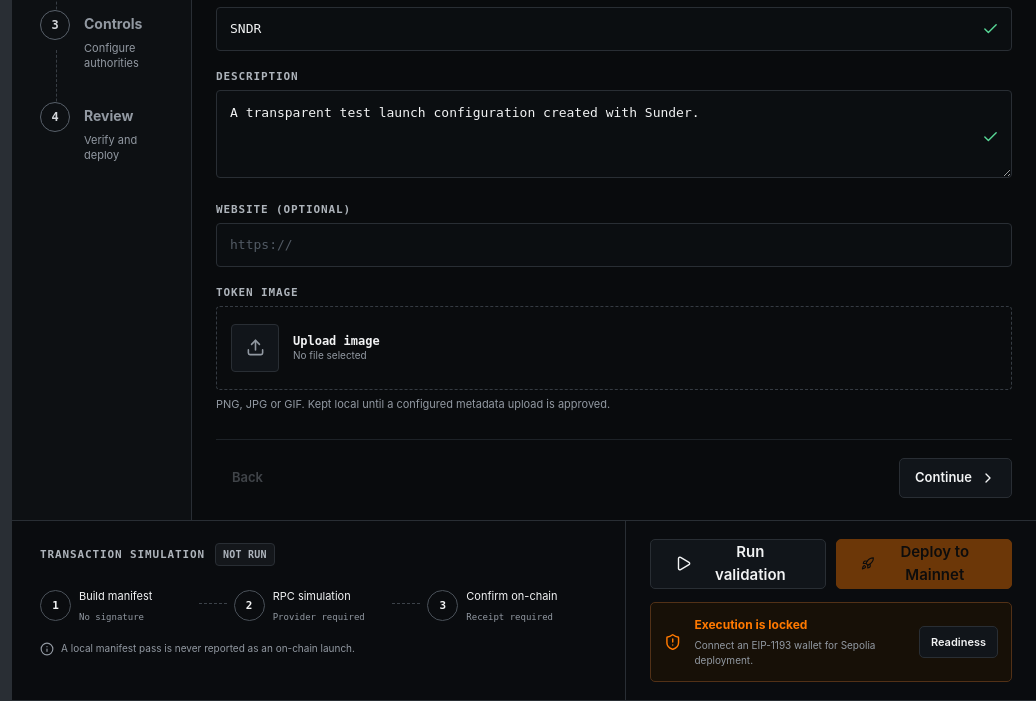
EVM product parity and safety › keeps Ethereum Mainnet deployment disabled even after a local manifest validation
(page scrolled)
Check: the button "Deploy to Mainnet" is disabled, box [836,539,1012,589]
Click the button "Run validation": (738, 564) [650,539,826,589]
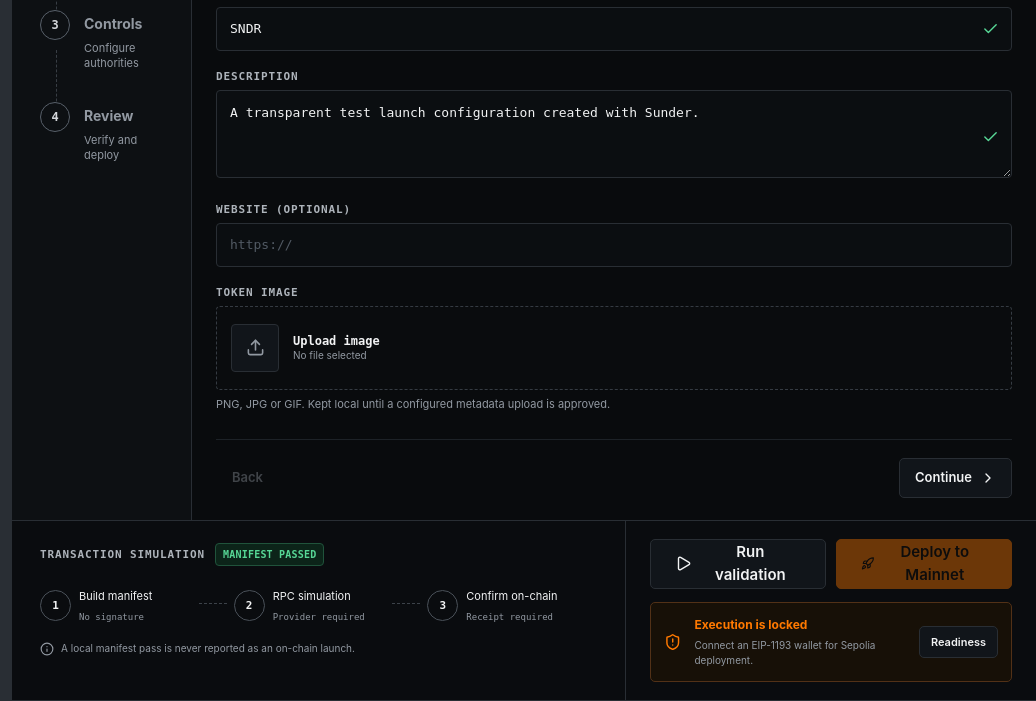
Check: the button "Deploy to Mainnet" is disabled, box [836,539,1012,589]
Check: the text "Manifest passed" is shown, box [215,543,324,566]
